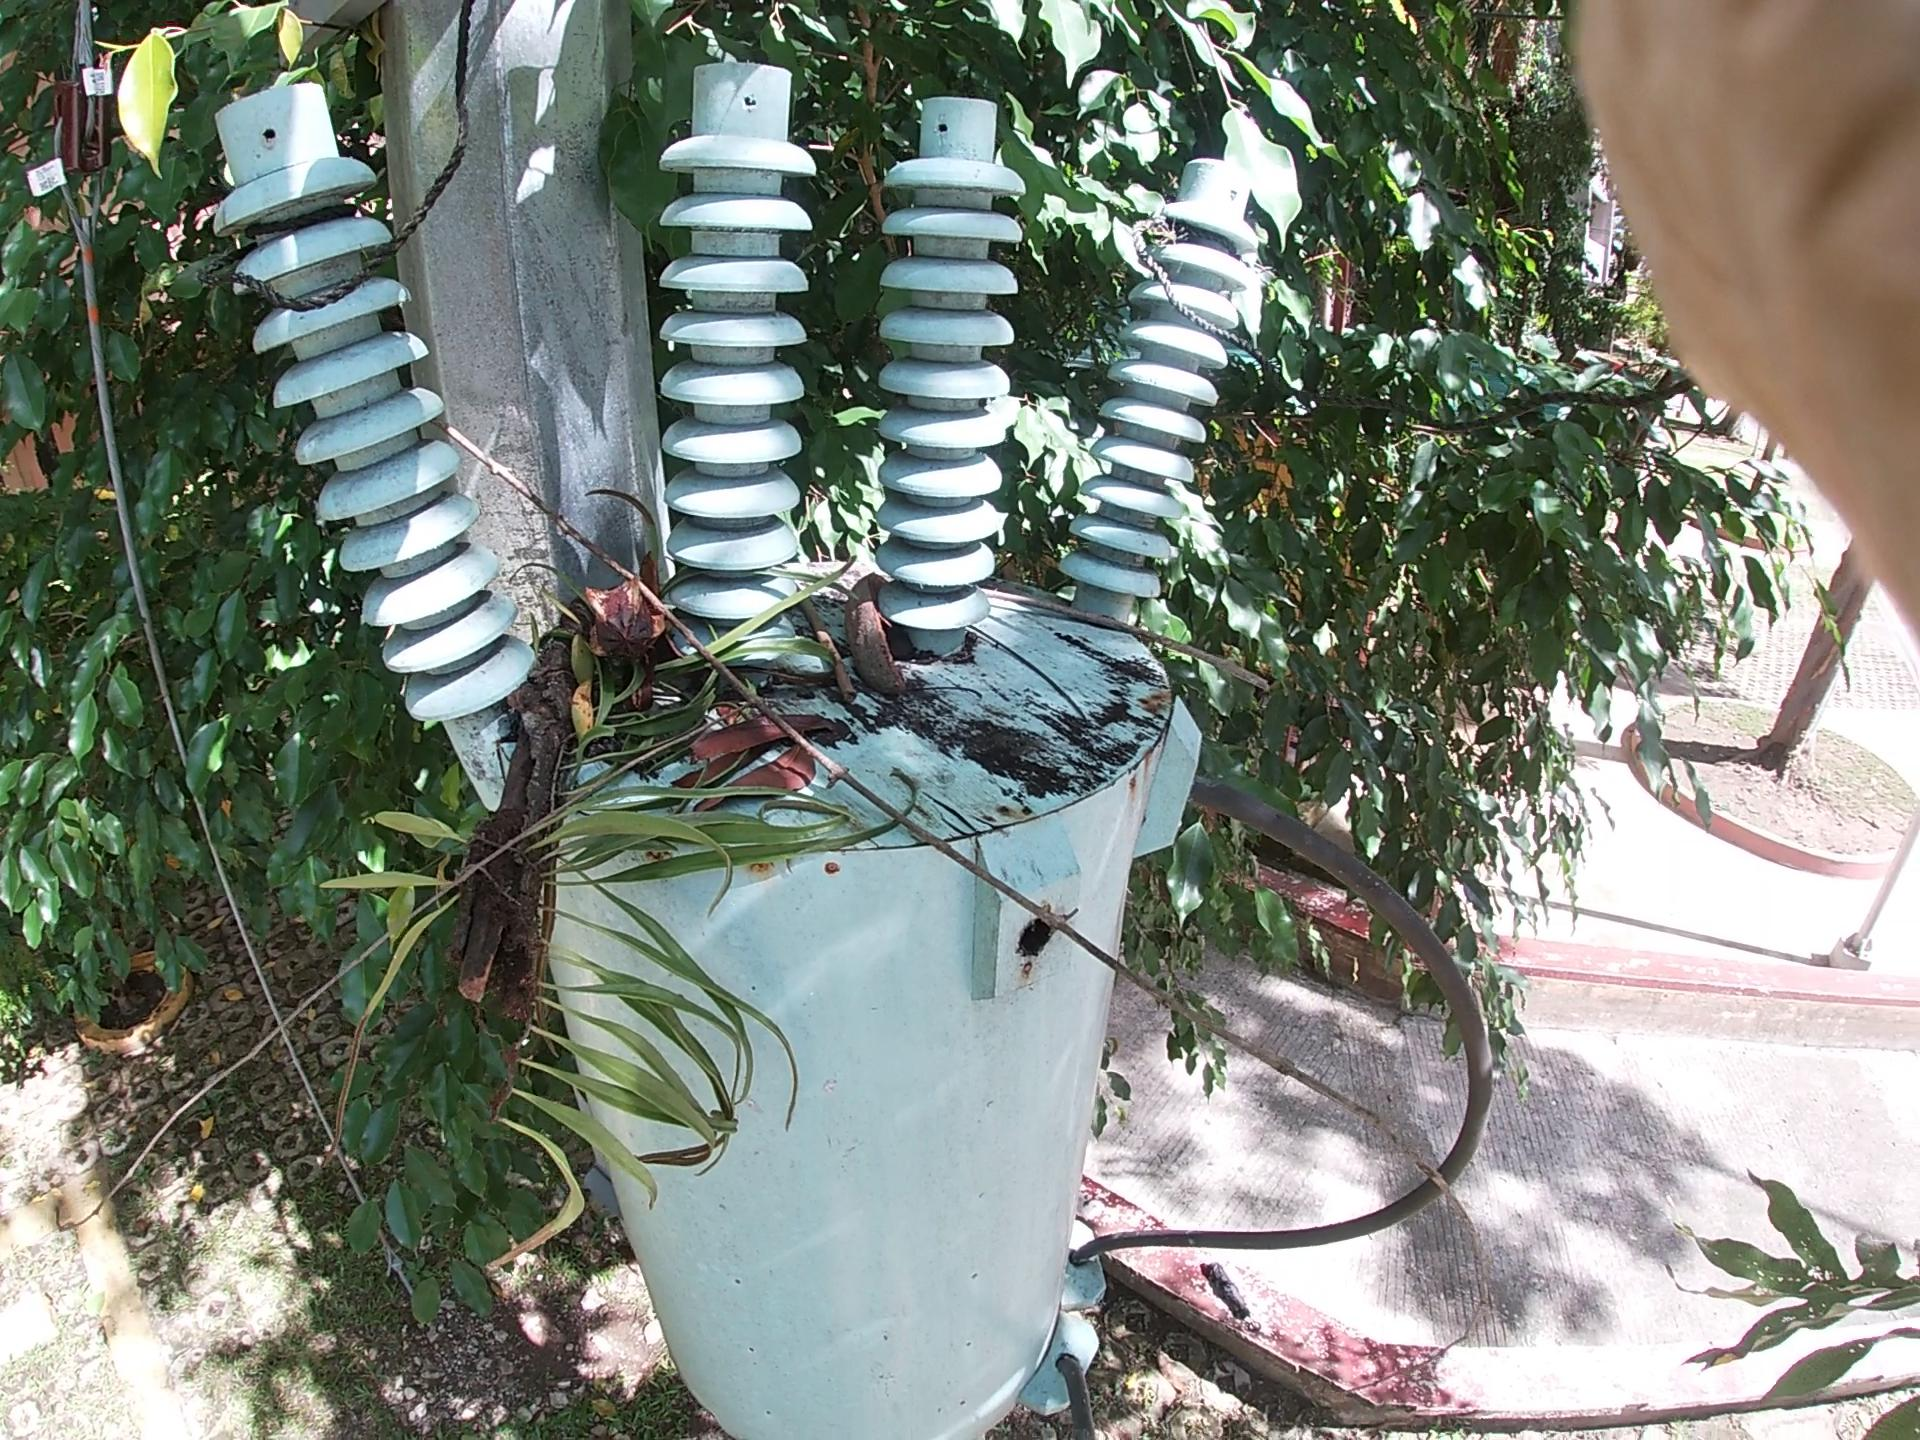branch with leaves: (324, 366, 831, 1186)
leaf: (488, 2, 1476, 343)
mahogany fruit: (821, 542, 993, 774), (552, 560, 711, 694)
tree branch: (408, 334, 1463, 1186), (952, 563, 1294, 720), (797, 507, 883, 768)
